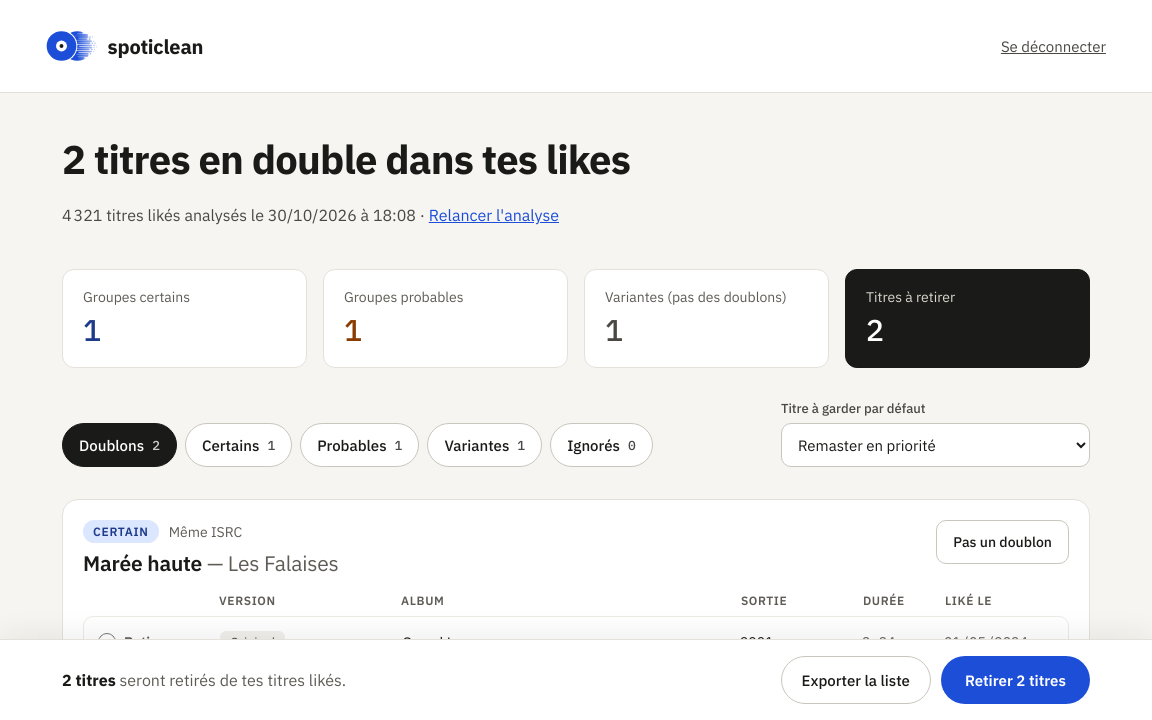
Test: ReviewScreen › reports a partial removal and keeps the failed tracks
Step 1. Click the button "Retirer 2 titres" → (1015,680), box x1=941 y1=656 x2=1090 y2=704
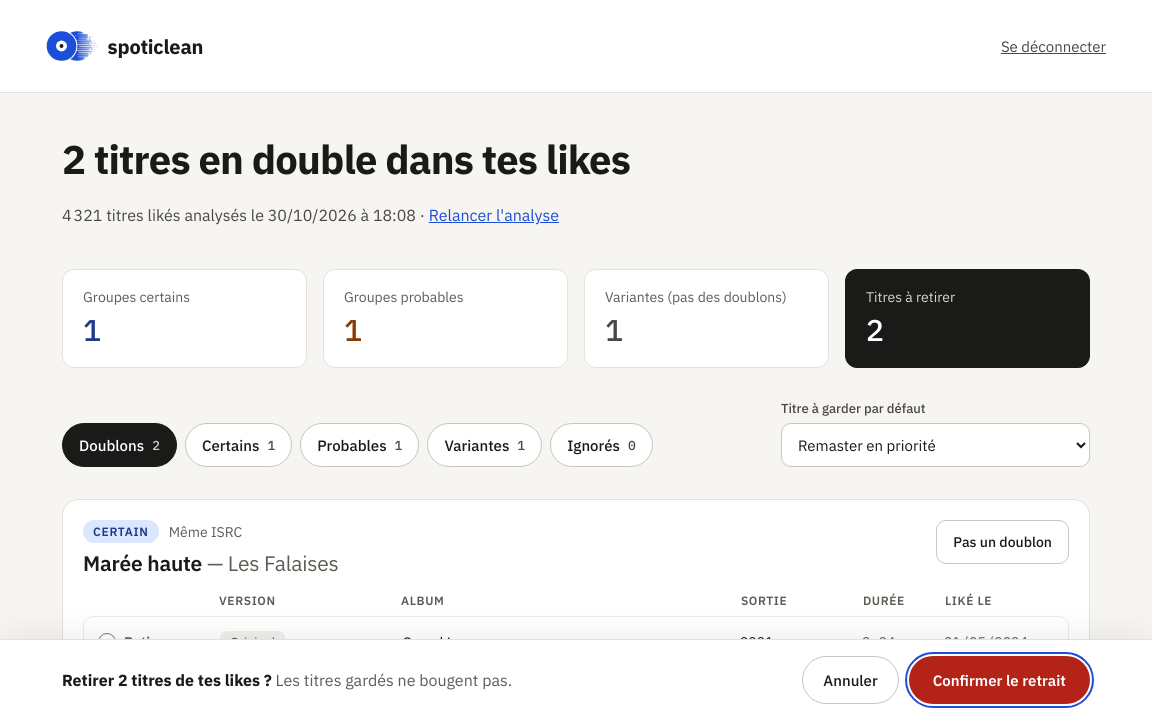
Step 2. Click the button "Confirmer le retrait" → (999,680), box x1=909 y1=656 x2=1090 y2=704
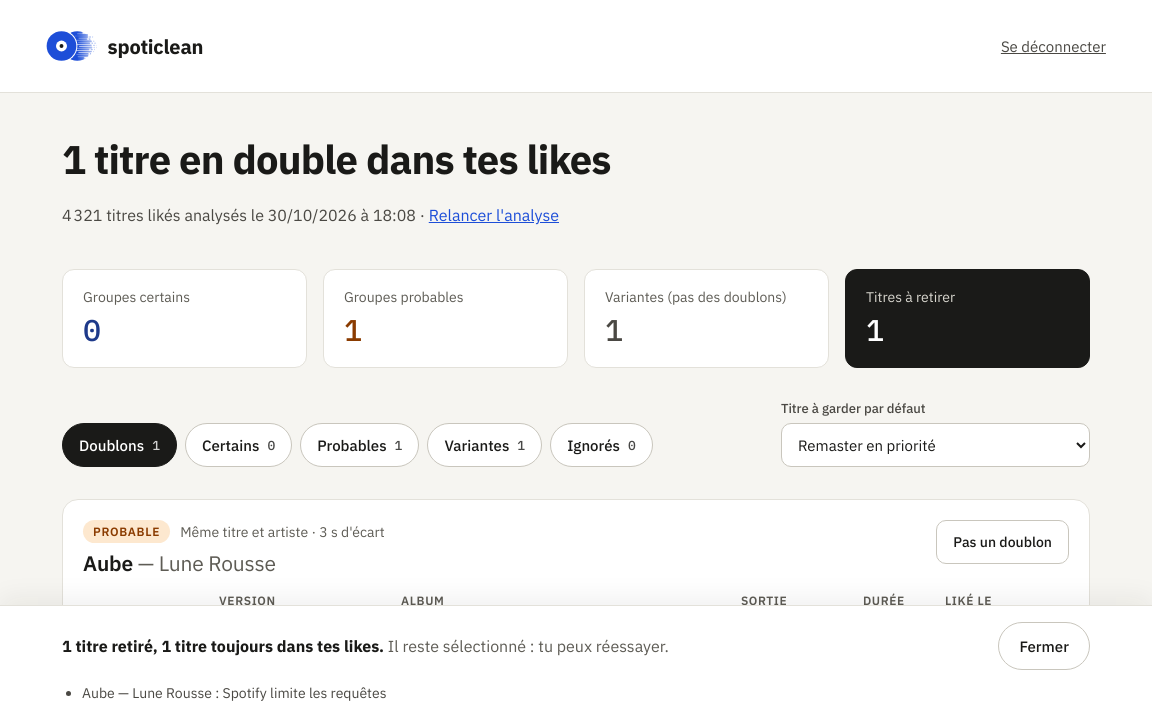
Expected: the text "1 titre retiré, 1 titre toujours dans tes likes." is shown, x1=62 y1=636 x2=384 y2=656
Expected: the list item reads "Aube — Lune Rousse : Spotify limite les requêtes", x1=82 y1=684 x2=386 y2=702
Expected: the heading "Marée haute" is gone
Step 3. Click the button "Fermer" → (1044,646), box x1=998 y1=622 x2=1090 y2=670
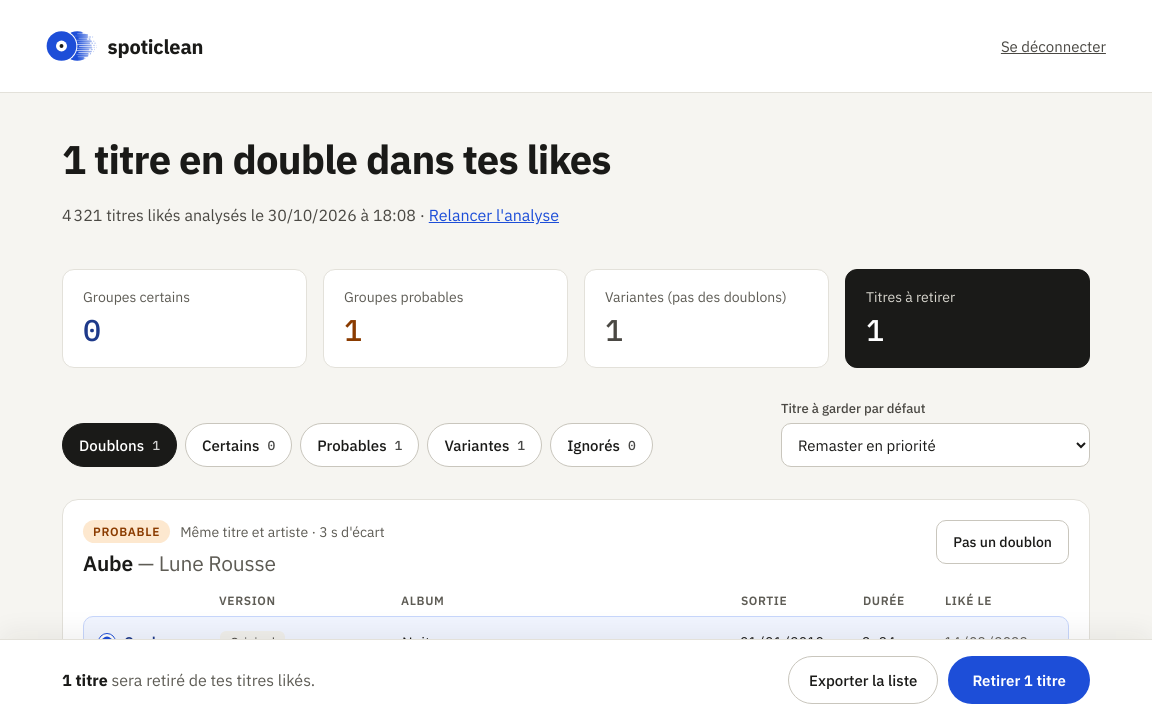
Expected: the button "Retirer 1 titre" is enabled, x1=948 y1=656 x2=1090 y2=704
